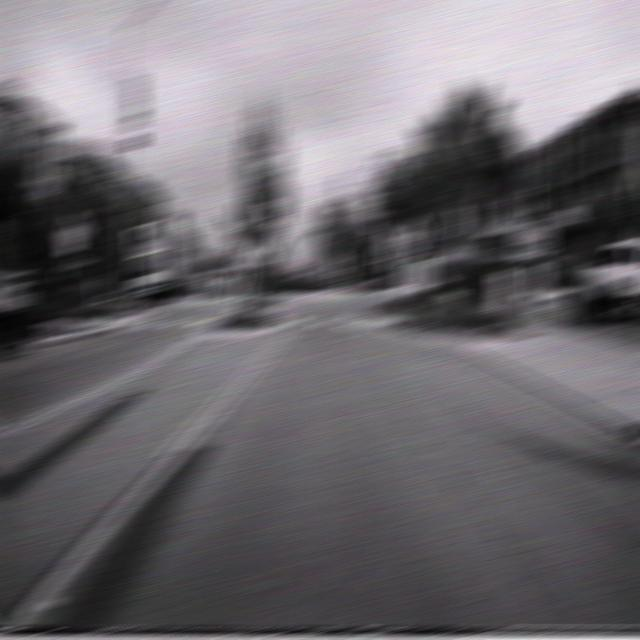pedestrianCrossing: (398, 213, 429, 254)
yield: (258, 199, 281, 222)
